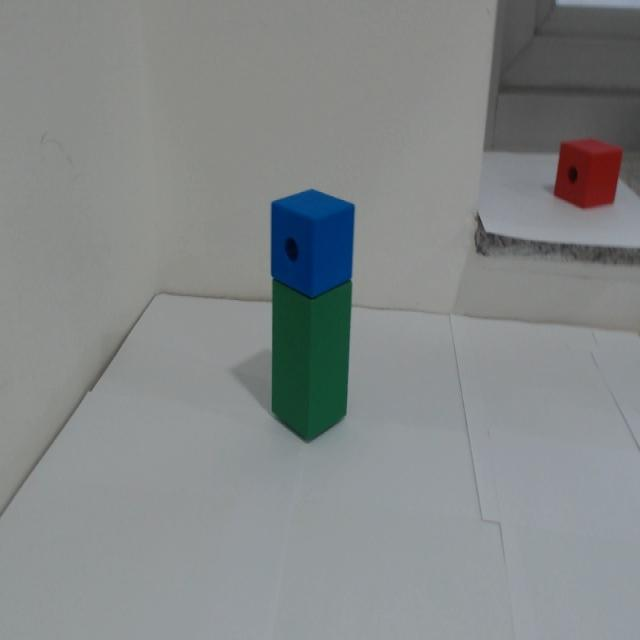cube: (263, 169, 369, 304)
